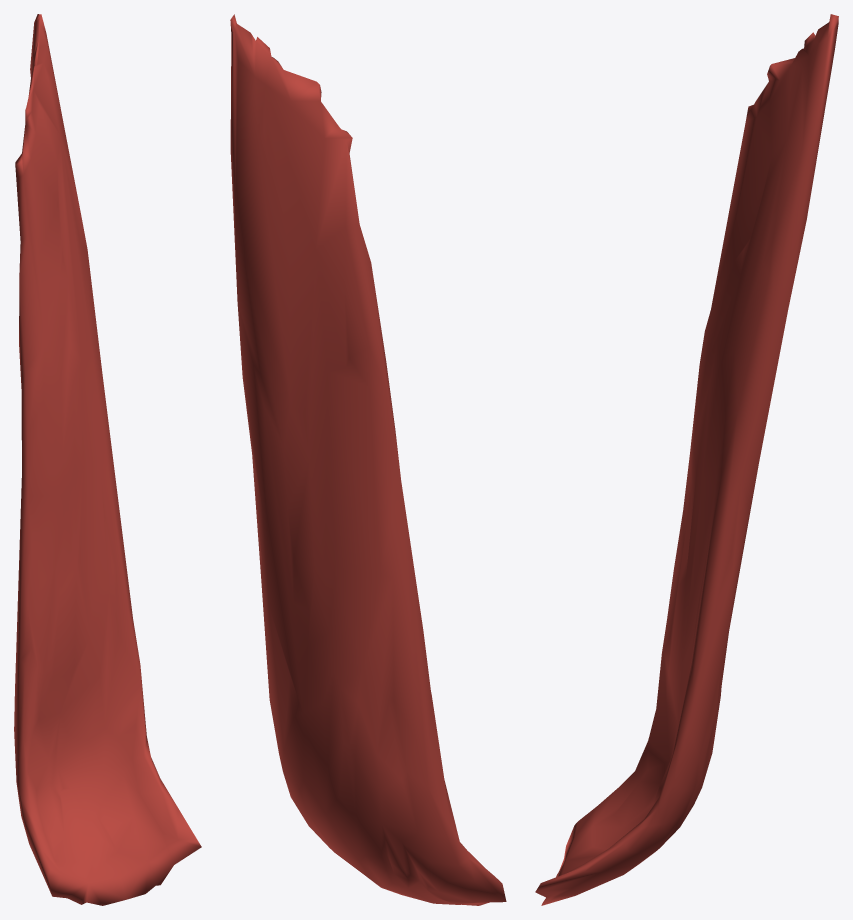
Rendered from musculos-sternothyroid-muscle-l.glb.
3 renders of one model, left to right at view 1: azimuth 30°, elevation 25°; view 2: azimuth 150°, elevation 25°; view 3: azimuth 270°, elevation 25°, orthographic. The views are drawn at different scales.
Parts seen in each view (by area): view 1: Sternothyroid muscle.l; view 2: Sternothyroid muscle.l; view 3: Sternothyroid muscle.l.
Part boxes in pixels (left/top/right/bottom): Sternothyroid muscle.l: left=14, top=14, right=201, bottom=905; Sternothyroid muscle.l: left=230, top=14, right=506, bottom=905; Sternothyroid muscle.l: left=535, top=14, right=838, bottom=905.
Bounding box in the file's own units: 0.018 × 0.0988 × 0.0299.
